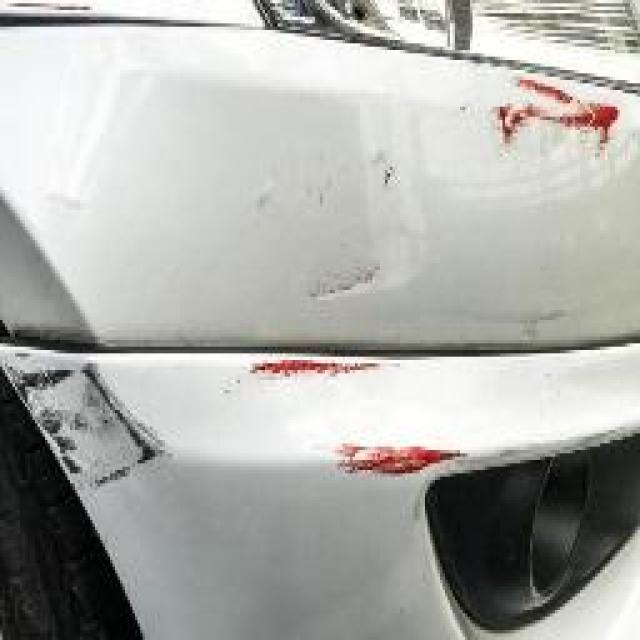Bumper: (15, 340, 508, 503)
Fender: (240, 43, 618, 323)
